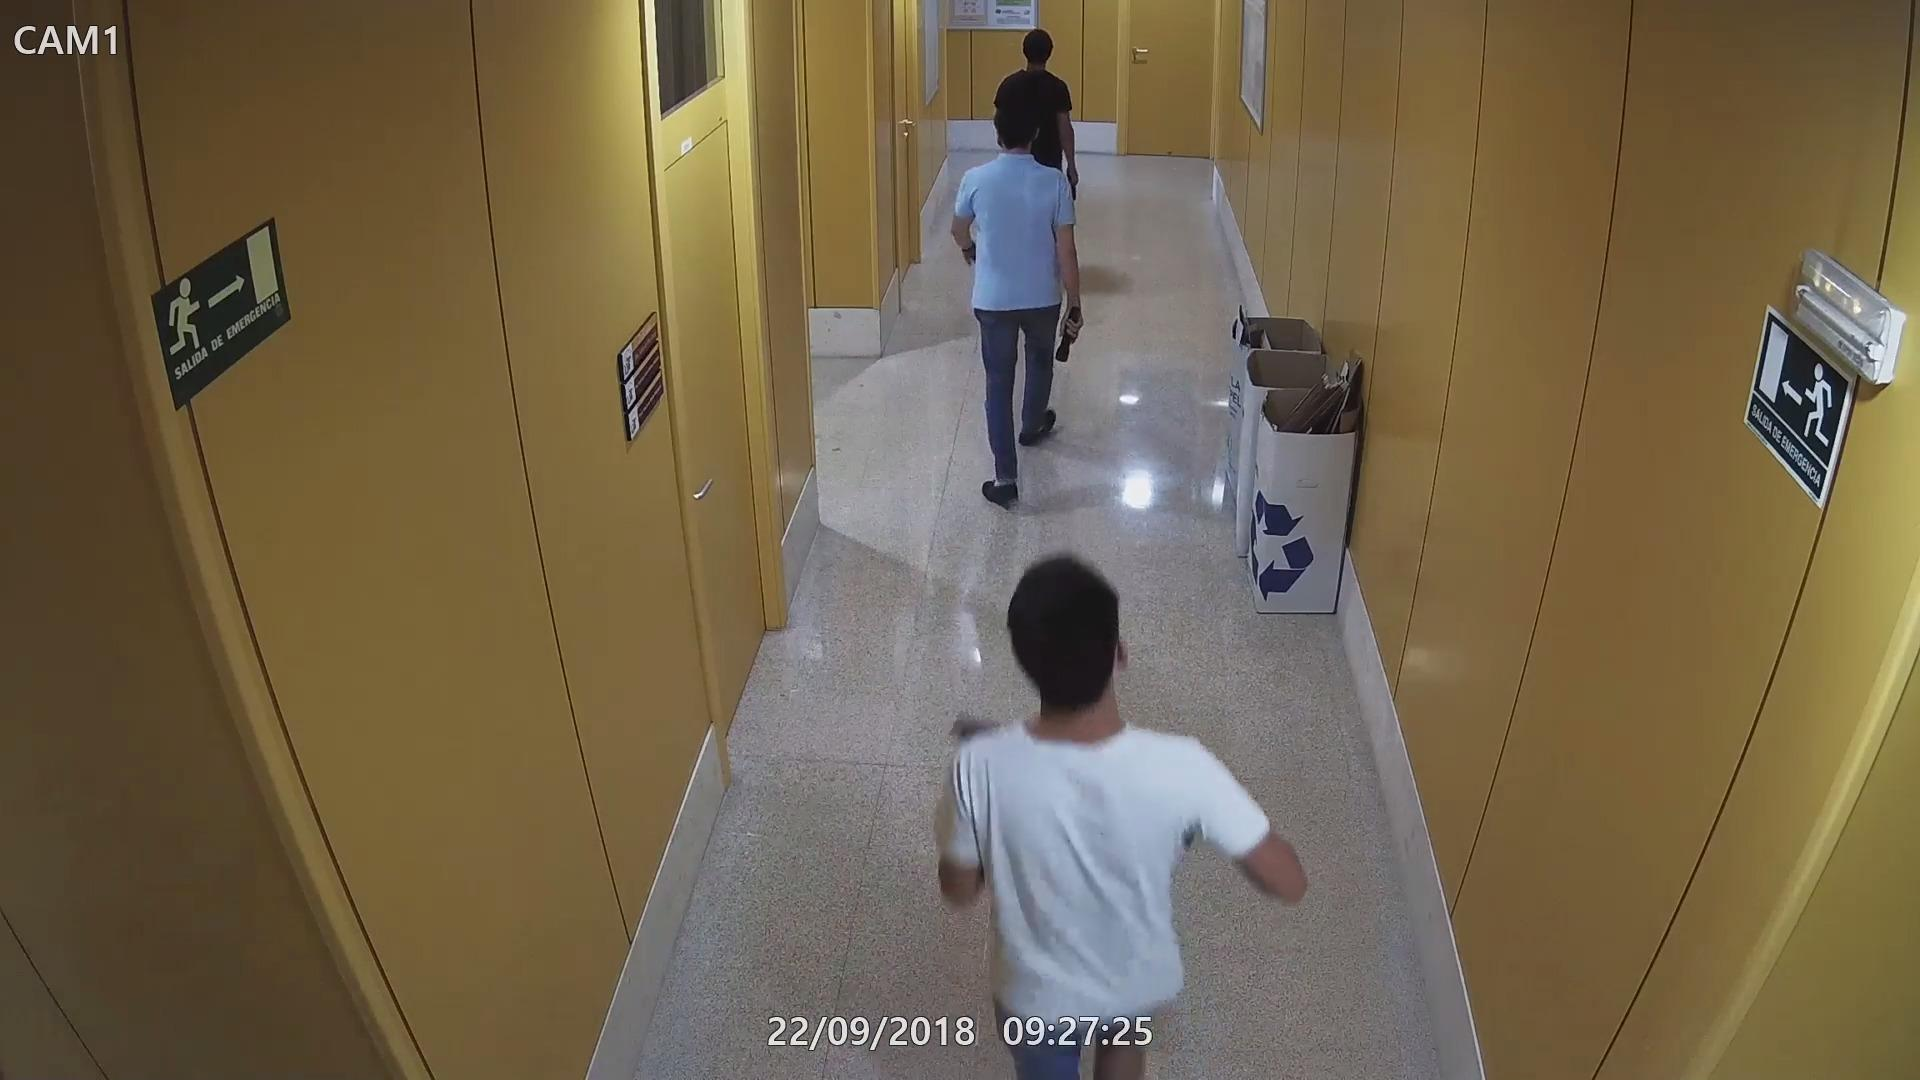Handgun: (1059, 164, 1085, 199)
